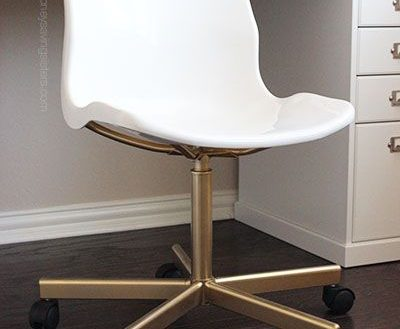chairs: (27, 1, 355, 329)
